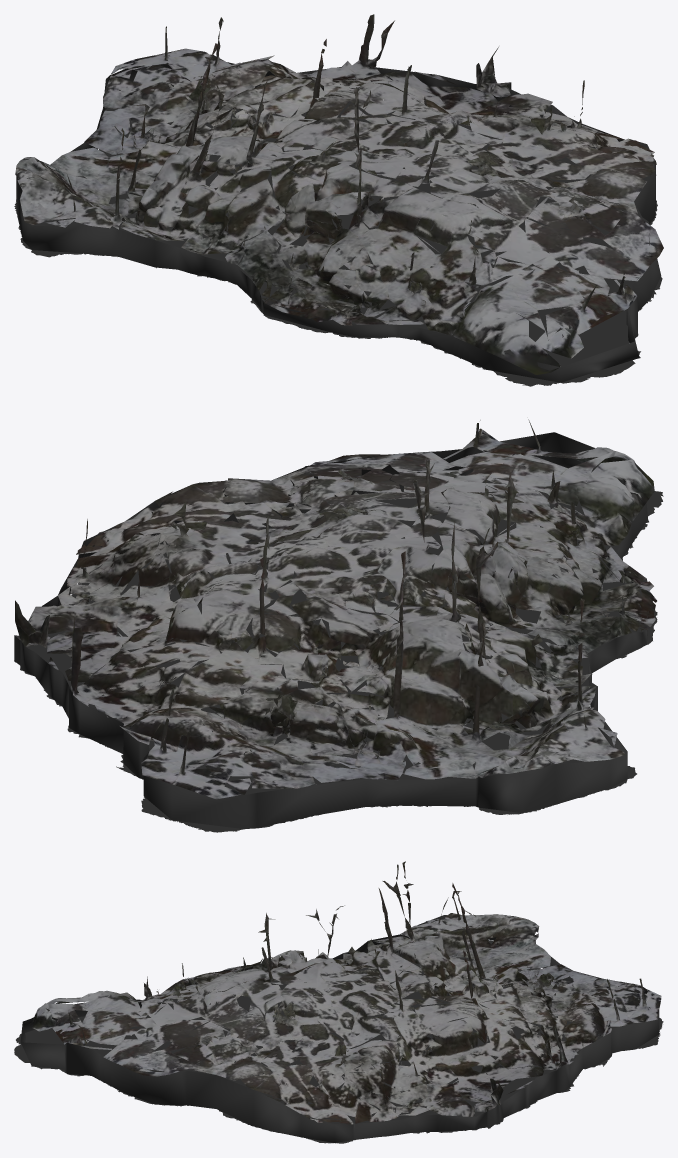
The model's file is dressing-rock.glb.
3 renders of one model, top to bottom at view 1: azimuth 30°, elevation 25°; view 2: azimuth 150°, elevation 25°; view 3: azimuth 270°, elevation 25°, orthographic. The views are drawn at different scales.
Visible parts, largest first — view 1: Object_6, Object_7, Object_4, Object_5, Object_3, Object_8, Object_2, Object_10, Object_9; view 2: Object_5, Object_4, Object_6, Object_7, Object_3, Object_8, Object_2, Object_9, Object_10; view 3: Object_7, Object_8, Object_3, Object_5, Object_4, Object_6, Object_2, Object_9, Object_10.
Part boxes in pixels (bbox=[...]): Object_6: bbox=[197, 95, 649, 374]; Object_7: bbox=[304, 110, 663, 358]; Object_4: bbox=[15, 76, 392, 290]; Object_5: bbox=[84, 14, 421, 197]; Object_3: bbox=[16, 54, 661, 382]; Object_8: bbox=[340, 66, 655, 179]; Object_2: bbox=[14, 86, 662, 386]; Object_10: bbox=[188, 20, 656, 340]; Object_9: bbox=[19, 43, 654, 241]; Object_5: bbox=[71, 458, 472, 799]; Object_4: bbox=[161, 472, 631, 779]; Object_6: bbox=[247, 448, 656, 692]; Object_7: bbox=[200, 423, 635, 613]; Object_3: bbox=[14, 432, 649, 829]; Object_8: bbox=[28, 480, 299, 682]; Object_2: bbox=[14, 478, 663, 832]; Object_9: bbox=[15, 470, 617, 794]; Object_10: bbox=[58, 419, 646, 718]; Object_7: bbox=[32, 947, 417, 1080]; Object_8: bbox=[241, 970, 543, 1124]; Object_3: bbox=[20, 915, 659, 1142]; Object_5: bbox=[306, 909, 661, 1069]; Object_4: bbox=[252, 861, 550, 1043]; Object_6: bbox=[25, 950, 503, 1066]; Object_2: bbox=[14, 939, 663, 1143]; Object_9: bbox=[193, 864, 647, 1122]; Object_10: bbox=[45, 913, 562, 1115].
Size of the model in its own units: 28.11 by 7.87 by 36.55.
Materials: 2 (1 with a texture image).
